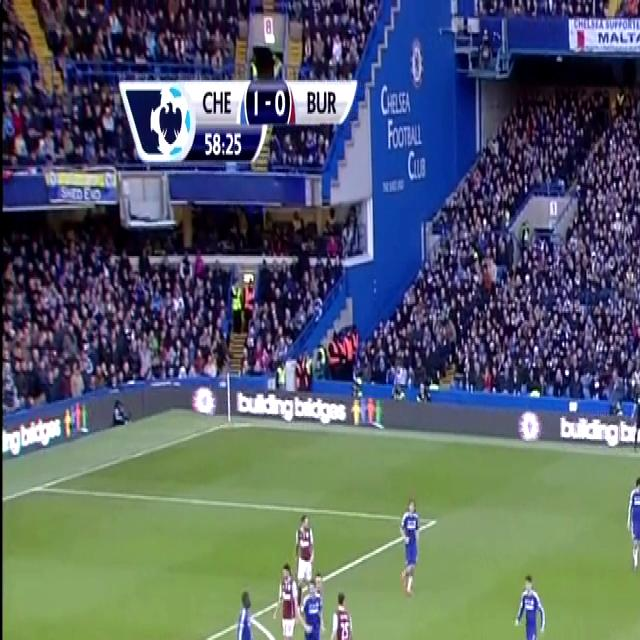referee: (626, 364, 640, 454)
soccer-player: (396, 485, 438, 602), (508, 560, 549, 640), (289, 502, 318, 610), (274, 556, 302, 640), (226, 579, 260, 640), (297, 572, 326, 640), (323, 586, 359, 640), (623, 471, 640, 578), (123, 629, 165, 640), (76, 636, 114, 640)
